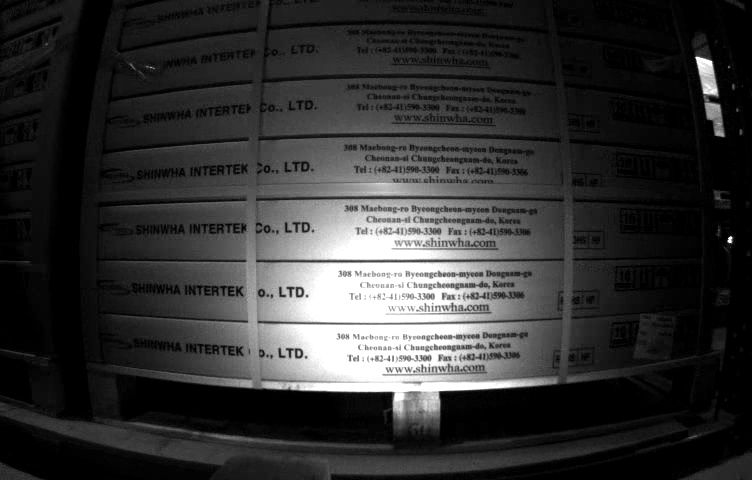True Barcode: (635, 315, 674, 361)
